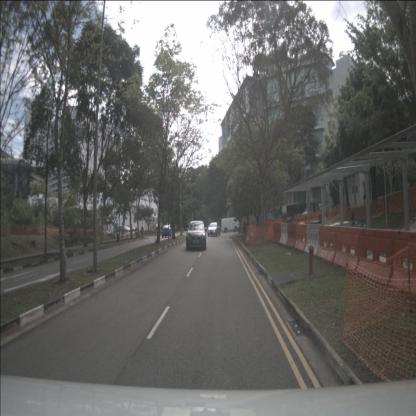barrier: (355, 229, 395, 287), (388, 230, 416, 294), (333, 225, 363, 274), (316, 223, 338, 262), (304, 223, 321, 256), (294, 224, 308, 252), (285, 224, 297, 248), (278, 222, 288, 244), (270, 218, 282, 236), (283, 216, 295, 233), (295, 214, 305, 233), (259, 219, 270, 236), (249, 221, 260, 236), (273, 223, 281, 243), (310, 212, 320, 224), (320, 210, 328, 220), (302, 212, 308, 223)
